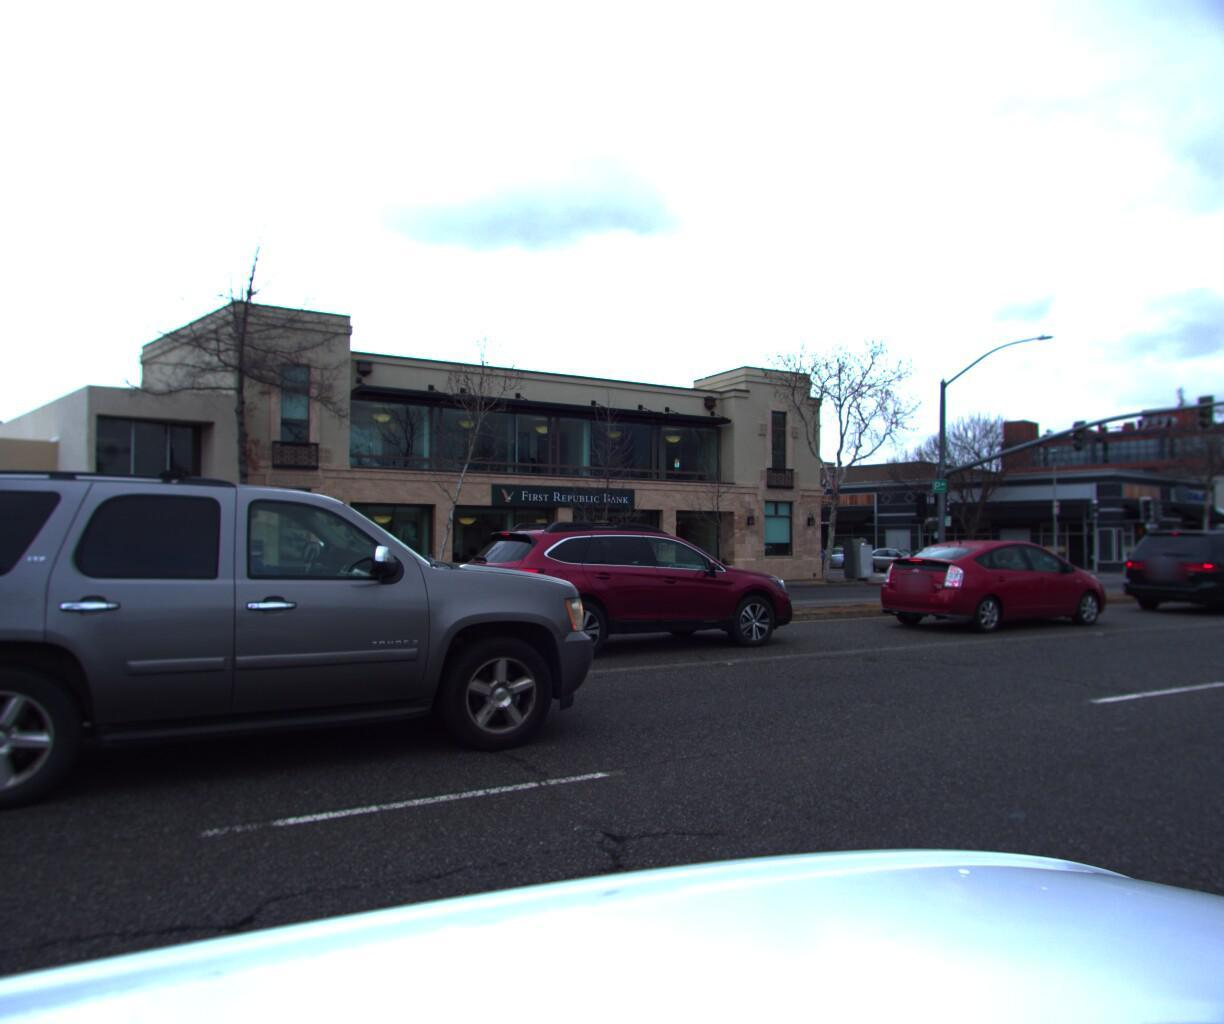car: (438, 518, 827, 676), (864, 540, 1125, 645), (1112, 530, 1224, 624), (850, 553, 945, 581)
